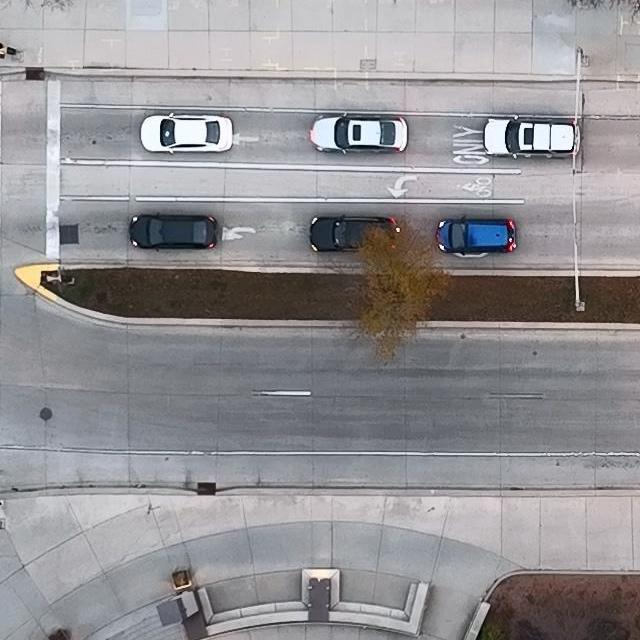car: (310, 110, 409, 156), (483, 115, 581, 159), (140, 111, 233, 154), (310, 213, 400, 254), (129, 211, 218, 252), (437, 215, 517, 255)
